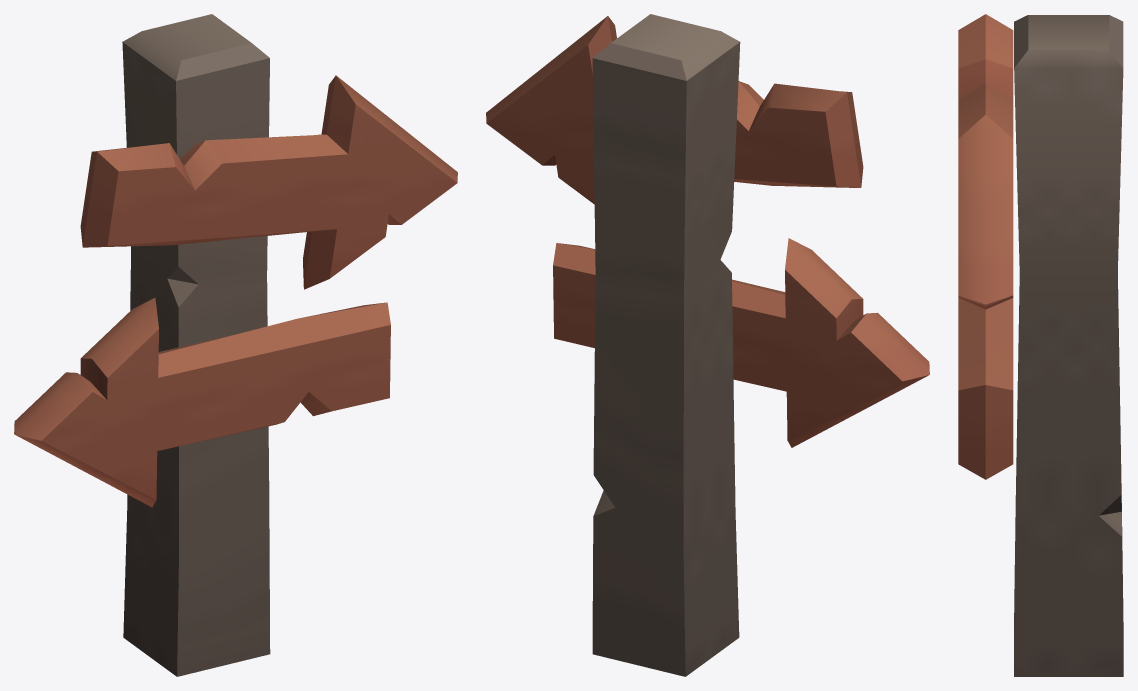
The model's file is halloween-sign-both.gltf.
3 views of the same model, side by side, from view 1: azimuth 30°, elevation 25°; view 2: azimuth 150°, elevation 25°; view 3: azimuth 270°, elevation 25° (orthographic). The views are drawn at different scales.
Visible parts, largest first — view 1: sign_both; view 2: sign_both; view 3: sign_both.
Part boxes in pixels (<box>): sign_both: <box>14,14,457,676</box>; sign_both: <box>486,14,929,676</box>; sign_both: <box>958,14,1123,676</box>.
Size of the model in its own units: 1.91 by 2.5 by 0.6025.
1 material, 1 textured.
